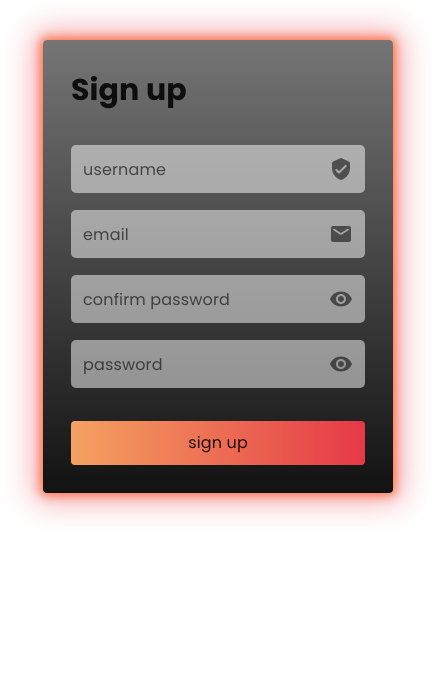
Scenario: Form Component › should show validation error when username input is empty
This screenshot has width=437, height=695.
Click the button "sign up".
click(218, 443)  # box [71, 421, 365, 465]
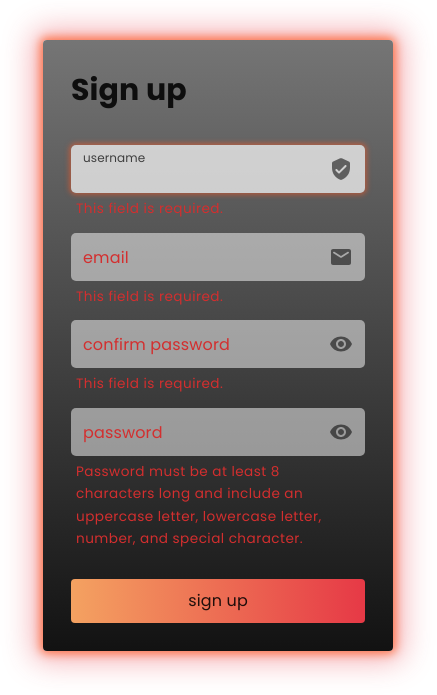
Expected: the text "This field is required." below "username" is shown, [76, 199, 223, 218]
